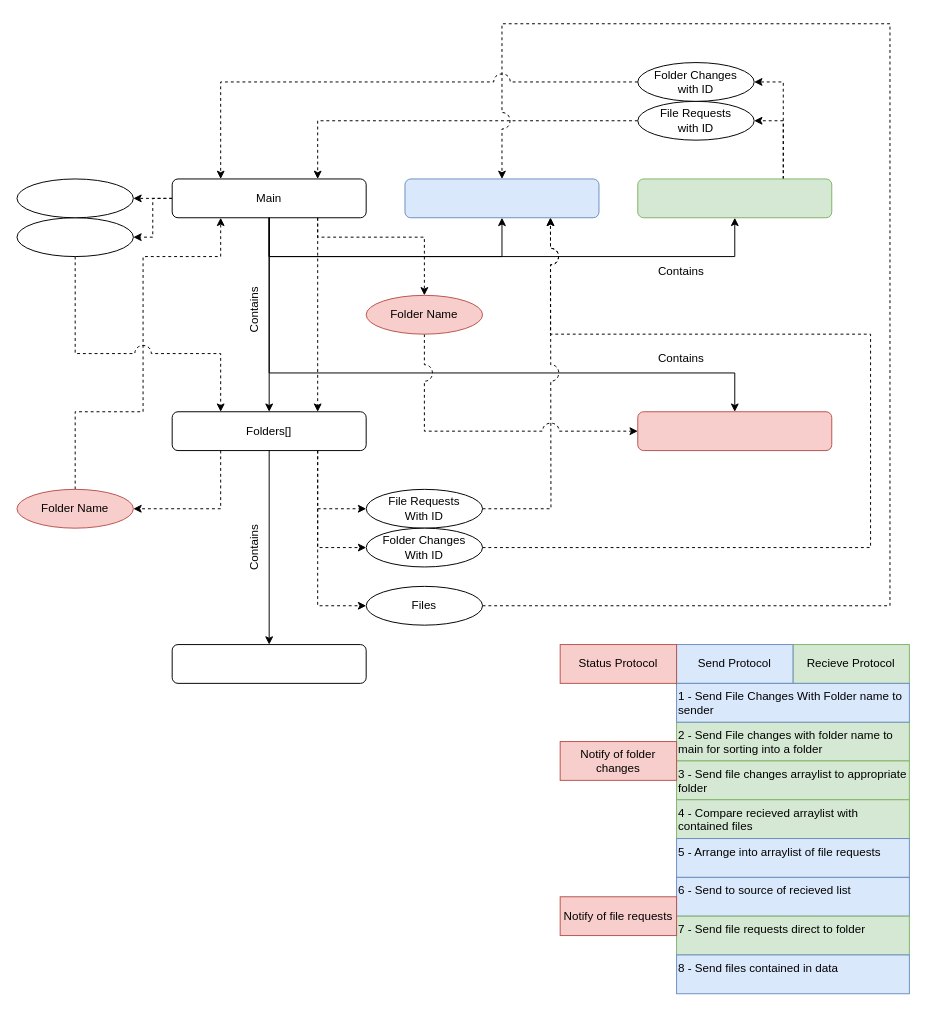
This 926x1011 diagram has some shape labels left out. Here are the shapes that lost their labels. From the top down, the centre of each, then its label:
point (74, 198): File Requests
point (501, 198): Sender
point (734, 198): Reciever
point (74, 237): Folder Changes
point (734, 431): Tray
point (268, 663): Files[]
